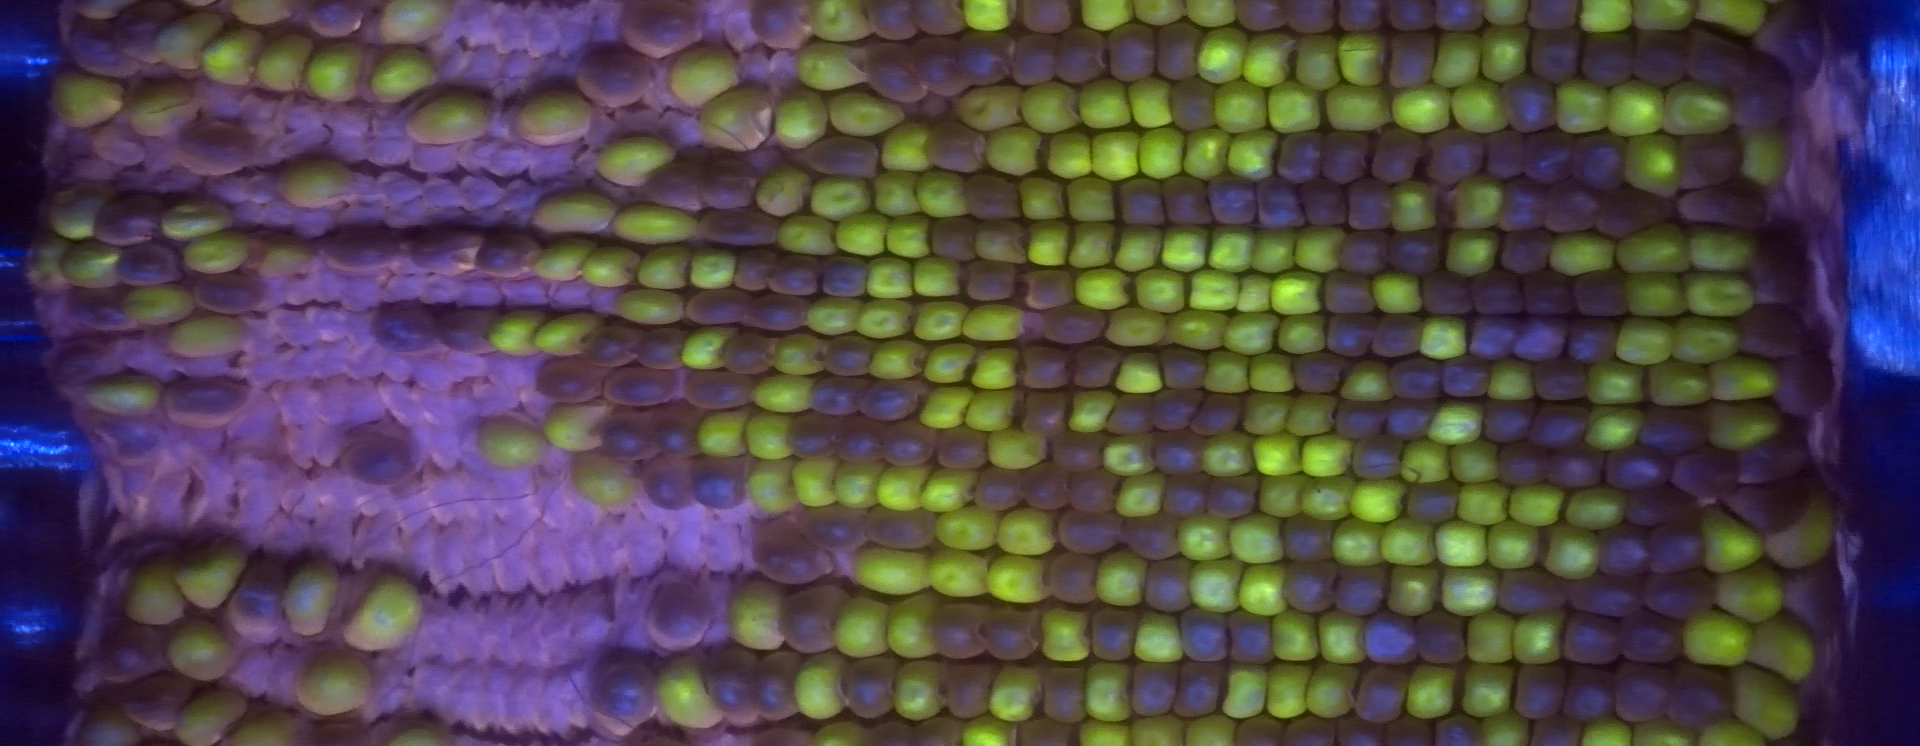fluorescent: (338, 566, 429, 659), (1756, 486, 1840, 575), (1728, 659, 1809, 745), (1742, 608, 1824, 691), (1692, 497, 1772, 583), (291, 646, 381, 722), (167, 541, 253, 617), (111, 549, 191, 630), (651, 650, 729, 734), (689, 83, 776, 156), (1704, 559, 1791, 631), (719, 576, 796, 655), (43, 65, 133, 132), (160, 615, 246, 685), (276, 557, 344, 644), (1656, 75, 1742, 142), (44, 176, 129, 244), (271, 153, 362, 214), (846, 540, 943, 598), (664, 43, 744, 111), (149, 10, 233, 76), (407, 89, 500, 148), (1611, 218, 1702, 278), (170, 685, 258, 746), (591, 134, 684, 191), (121, 77, 204, 141), (1678, 604, 1756, 671), (566, 450, 647, 514), (1702, 401, 1795, 457), (828, 590, 899, 660), (516, 86, 598, 146), (605, 198, 708, 246), (787, 650, 853, 724), (1622, 131, 1689, 205), (1682, 218, 1764, 277), (1701, 350, 1788, 405), (366, 43, 440, 108), (980, 550, 1060, 609), (80, 370, 171, 421), (1678, 265, 1763, 320), (196, 23, 264, 92), (1602, 75, 1671, 142), (887, 655, 953, 726), (1664, 311, 1747, 367), (53, 236, 133, 294), (167, 310, 252, 364), (981, 660, 1051, 726), (1447, 75, 1518, 140), (920, 546, 999, 604), (1734, 122, 1798, 194), (178, 225, 260, 281), (527, 191, 626, 236), (529, 306, 612, 360), (1616, 266, 1696, 322), (1542, 225, 1622, 281), (795, 40, 874, 96), (300, 40, 366, 107), (768, 86, 831, 154), (883, 594, 947, 663), (1035, 605, 1104, 668), (475, 412, 549, 470), (156, 194, 241, 244), (1438, 559, 1507, 620), (540, 398, 612, 457), (116, 279, 201, 330), (1386, 81, 1460, 138), (1551, 73, 1616, 138), (1540, 521, 1605, 586), (1300, 657, 1363, 724), (1507, 605, 1572, 669), (1322, 78, 1397, 134), (827, 93, 912, 141), (1644, 356, 1720, 410), (951, 81, 1029, 134), (1091, 548, 1153, 612), (1311, 608, 1376, 670), (1429, 512, 1495, 573), (744, 453, 804, 521), (1078, 659, 1138, 726), (1016, 78, 1085, 137), (1224, 510, 1293, 568), (931, 503, 1005, 557), (1184, 555, 1247, 619), (1458, 658, 1520, 723), (253, 29, 313, 96), (1476, 21, 1536, 87), (1450, 169, 1510, 235), (1376, 514, 1445, 572), (1581, 401, 1652, 456), (1580, 355, 1651, 410), (1100, 303, 1176, 354), (1210, 75, 1272, 137), (28, 232, 91, 294), (1265, 608, 1326, 671), (1333, 27, 1395, 91), (993, 507, 1065, 561), (1262, 78, 1329, 137), (482, 305, 550, 363), (1172, 510, 1240, 566), (1559, 485, 1633, 537), (373, 1, 452, 50), (1073, 73, 1138, 132), (1482, 516, 1547, 575), (1129, 606, 1190, 668), (747, 372, 825, 420), (1262, 266, 1330, 321), (1611, 314, 1680, 367), (527, 236, 604, 284), (808, 173, 878, 225), (1220, 657, 1272, 726), (1191, 24, 1251, 86), (1233, 560, 1293, 621), (1400, 660, 1460, 722), (1429, 27, 1488, 89), (609, 285, 689, 331), (771, 212, 846, 261), (1367, 266, 1431, 322), (1385, 176, 1445, 236), (576, 243, 649, 292), (1381, 559, 1440, 620), (1344, 477, 1414, 528), (980, 122, 1043, 179), (1393, 432, 1458, 488), (801, 290, 868, 343), (1325, 517, 1392, 570), (1463, 608, 1520, 670), (911, 167, 975, 222), (1261, 659, 1316, 723), (1502, 480, 1572, 530), (1291, 31, 1344, 96), (749, 167, 816, 219), (767, 330, 834, 381), (1131, 122, 1190, 181), (1291, 219, 1349, 278), (878, 119, 938, 176), (1333, 356, 1402, 407), (915, 465, 981, 517), (850, 295, 921, 343), (1096, 431, 1167, 479), (981, 425, 1052, 473), (677, 323, 744, 374), (1451, 479, 1518, 529), (1280, 387, 1340, 443), (743, 405, 800, 465), (1238, 29, 1293, 91), (694, 407, 757, 461), (869, 461, 932, 514), (1689, 1, 1772, 42), (251, 230, 320, 279), (864, 334, 933, 383), (1196, 430, 1261, 481), (1441, 227, 1506, 278), (804, 1, 878, 47), (831, 457, 888, 516), (958, 299, 1029, 345), (909, 296, 976, 345), (1130, 266, 1193, 318), (1202, 216, 1254, 279), (1247, 429, 1310, 480), (1087, 127, 1146, 183), (1177, 127, 1236, 183), (1155, 220, 1213, 276), (830, 211, 893, 262), (1424, 397, 1487, 448), (959, 386, 1022, 436), (1164, 307, 1233, 354), (1223, 125, 1280, 181), (789, 454, 844, 512), (1122, 73, 1176, 132), (1013, 171, 1071, 225), (1111, 467, 1169, 521), (1059, 174, 1120, 225), (1067, 385, 1125, 437), (1251, 469, 1311, 521), (1184, 266, 1247, 315), (631, 243, 693, 292), (920, 339, 982, 388), (1218, 311, 1282, 359), (913, 383, 977, 431), (1043, 127, 1098, 183), (869, 169, 927, 222), (1484, 354, 1544, 404), (1296, 432, 1357, 481), (1109, 349, 1172, 397), (1299, 473, 1357, 524), (1414, 312, 1473, 363), (1071, 265, 1136, 310), (1022, 217, 1076, 271), (1109, 223, 1164, 276), (1201, 345, 1256, 398), (684, 243, 742, 293), (1247, 224, 1303, 274), (862, 254, 920, 303), (909, 254, 967, 301), (1064, 219, 1118, 271), (1450, 437, 1505, 488), (1238, 390, 1294, 439), (1625, 1, 1704, 36), (1273, 311, 1333, 356), (1690, 713, 1772, 746), (1244, 350, 1300, 398), (882, 213, 936, 262), (970, 345, 1024, 394), (955, 710, 1026, 746), (1571, 1, 1643, 36), (1231, 269, 1280, 318), (1180, 709, 1245, 746), (1626, 715, 1703, 746), (1127, 710, 1191, 746), (1473, 710, 1538, 746), (956, 1, 1022, 34), (1076, 1, 1136, 36), (1571, 717, 1638, 746), (1476, 1, 1537, 33), (1071, 717, 1138, 746), (1128, 1, 1189, 29), (1180, 1, 1240, 29)
nonfluorescent: (223, 549, 293, 650), (587, 649, 662, 741), (637, 565, 713, 654), (1725, 40, 1793, 141), (1776, 556, 1848, 646), (749, 516, 833, 590), (1678, 20, 1758, 96), (167, 118, 260, 183), (115, 668, 204, 735), (700, 643, 767, 733), (157, 372, 253, 432), (568, 40, 653, 109), (1750, 7, 1824, 85), (61, 10, 141, 81), (1660, 661, 1738, 734), (1719, 479, 1818, 534), (311, 217, 399, 278), (613, 2, 707, 60), (1554, 605, 1629, 675), (776, 586, 850, 655), (1490, 563, 1575, 622), (1594, 185, 1680, 241), (787, 500, 873, 556), (855, 497, 940, 554), (1731, 434, 1813, 492), (934, 653, 1003, 723), (89, 192, 170, 250), (1610, 608, 1687, 668), (1673, 180, 1764, 230), (588, 401, 660, 464), (1771, 345, 1834, 418), (1571, 126, 1632, 201), (860, 37, 924, 107), (911, 29, 976, 99), (835, 650, 899, 722), (110, 1, 182, 64), (802, 127, 880, 185), (1671, 131, 1745, 192), (338, 432, 421, 486), (949, 27, 1016, 93), (1419, 126, 1488, 191), (405, 220, 482, 278), (749, 644, 807, 722), (471, 225, 542, 288), (369, 296, 442, 356), (694, 198, 781, 249), (643, 158, 713, 220), (1629, 401, 1709, 454), (1555, 661, 1621, 726), (1626, 22, 1690, 89), (1740, 300, 1802, 369), (1360, 126, 1427, 190), (956, 165, 1025, 227), (1002, 24, 1062, 94), (681, 452, 751, 512), (1048, 26, 1113, 89), (1573, 27, 1640, 89), (1200, 170, 1262, 236), (1667, 443, 1738, 501), (1116, 507, 1187, 565), (1593, 522, 1657, 586), (109, 241, 187, 293), (1155, 167, 1213, 235), (1524, 23, 1588, 86), (1381, 27, 1442, 92), (696, 153, 760, 214), (1509, 657, 1569, 723), (1638, 570, 1719, 619), (1567, 570, 1646, 620), (1537, 183, 1611, 235), (1357, 608, 1420, 669), (929, 598, 989, 663), (973, 604, 1038, 664), (1220, 605, 1280, 670), (1608, 661, 1673, 722), (1100, 20, 1158, 86), (1037, 660, 1096, 726), (1499, 71, 1556, 138), (435, 299, 498, 359), (1174, 603, 1233, 668), (850, 376, 926, 426), (1251, 171, 1311, 234), (647, 402, 709, 462), (1408, 608, 1471, 668), (1056, 506, 1127, 559), (1643, 523, 1708, 581), (1273, 511, 1341, 566), (1316, 126, 1376, 187), (1520, 124, 1580, 185), (1272, 125, 1331, 187), (634, 454, 699, 511), (186, 273, 264, 320), (681, 363, 759, 409), (595, 363, 675, 408), (1169, 658, 1226, 722), (1149, 18, 1204, 83), (924, 121, 989, 176), (1477, 394, 1542, 450), (1128, 657, 1182, 723), (533, 354, 605, 403), (1044, 546, 1102, 608), (1086, 604, 1144, 665), (1353, 663, 1411, 724), (1517, 265, 1573, 327), (746, 1, 816, 51), (1198, 470, 1262, 524), (1062, 464, 1123, 521), (1531, 394, 1593, 450), (1558, 314, 1621, 367), (1275, 559, 1338, 612), (1100, 383, 1158, 441), (1138, 559, 1196, 616), (1013, 459, 1074, 514), (737, 288, 809, 334), (1491, 183, 1555, 235), (1571, 266, 1632, 320), (681, 285, 756, 330), (1015, 383, 1071, 441), (1166, 75, 1221, 134), (1332, 562, 1391, 617), (1114, 171, 1168, 230), (1416, 268, 1476, 321), (759, 250, 825, 298), (1016, 262, 1078, 314), (1622, 481, 1693, 526), (1402, 477, 1466, 526), (1367, 309, 1424, 363), (718, 326, 776, 379), (932, 421, 993, 472), (1382, 225, 1445, 274), (831, 412, 887, 467), (1018, 338, 1074, 392), (808, 366, 866, 419), (1603, 446, 1671, 490), (960, 256, 1020, 306), (1482, 125, 1531, 186), (786, 409, 841, 463), (970, 462, 1025, 516), (1510, 314, 1569, 364), (1188, 388, 1247, 439), (1331, 392, 1390, 442), (1346, 174, 1395, 234), (1462, 311, 1522, 360), (820, 331, 880, 380), (1529, 356, 1592, 403), (1545, 443, 1608, 490), (1146, 430, 1209, 477), (1068, 341, 1122, 394), (1495, 439, 1551, 490), (1042, 304, 1109, 347), (1466, 269, 1524, 318), (1155, 343, 1210, 394), (1382, 394, 1438, 446), (855, 1, 924, 42), (880, 416, 939, 464), (1495, 229, 1555, 276), (580, 323, 640, 370), (1331, 225, 1392, 271), (1324, 309, 1375, 363), (1160, 467, 1211, 521), (813, 252, 868, 303), (922, 213, 978, 262), (1389, 354, 1447, 401), (1291, 349, 1349, 396), (634, 321, 687, 372), (1299, 176, 1349, 230), (1320, 269, 1378, 316), (1048, 428, 1109, 470), (1149, 387, 1206, 432), (1440, 352, 1494, 399), (301, 2, 369, 40), (1349, 436, 1406, 481), (729, 247, 781, 294), (1013, 1, 1080, 36), (904, 2, 969, 37), (1281, 1, 1342, 36), (1425, 1, 1487, 34), (1517, 1, 1586, 31), (1229, 710, 1289, 744), (1427, 713, 1489, 744), (1229, 1, 1287, 34), (1524, 712, 1583, 744), (1331, 1, 1386, 34), (1379, 1, 1439, 31), (1280, 715, 1338, 744), (1331, 712, 1381, 744), (1384, 717, 1439, 745)
